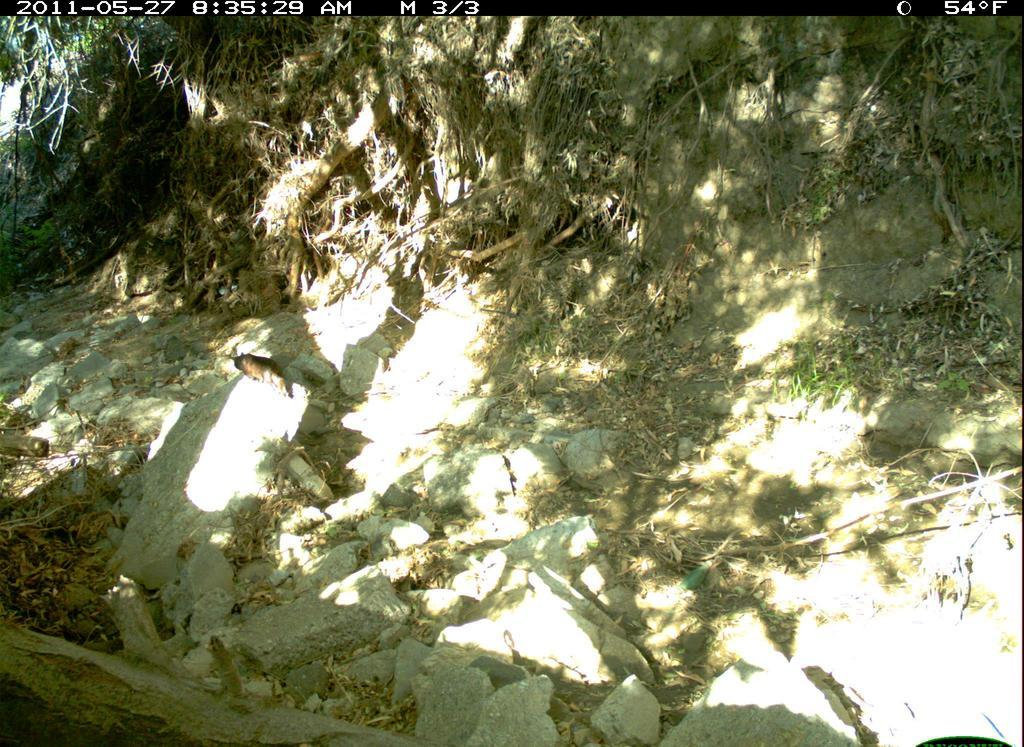cat: (212, 338, 302, 407)
